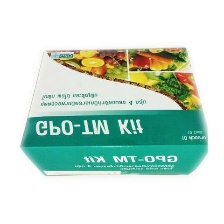book: (16, 41, 217, 178)
